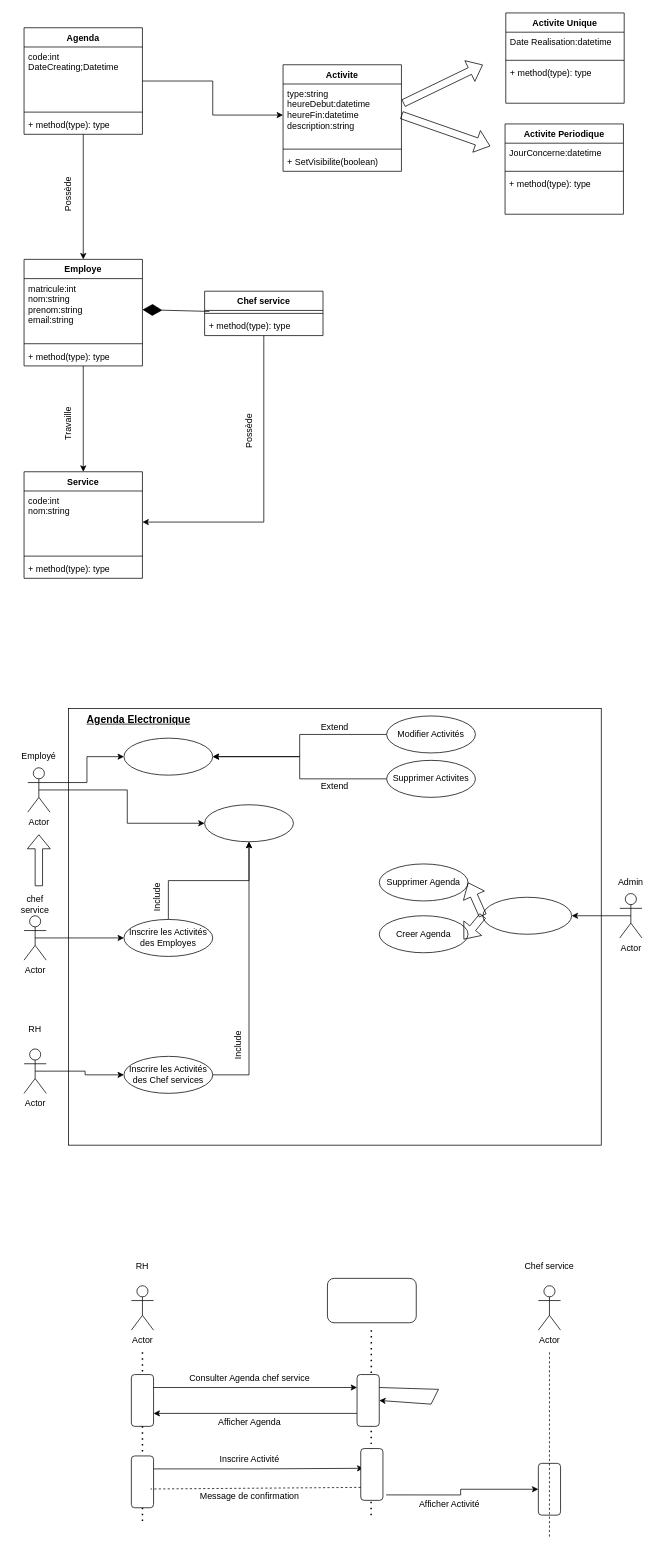
This 665x1551 diagram has some shape labels left out. Each missing label, with the centre of its shape:
"Consulter Agenda" belongs at (248,823).
"Gestion Agenda" belongs at (527,915).
"Saisir les Activités" belongs at (168,756).
"Systeme" belongs at (371,1300).
